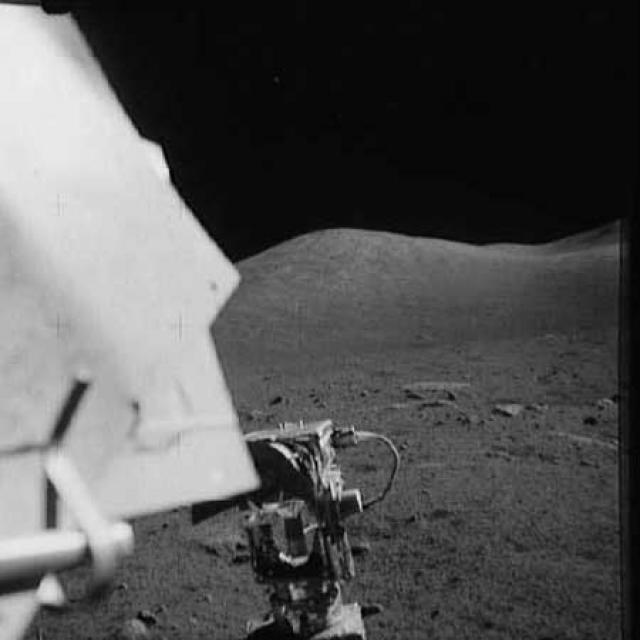artifact: (1, 0, 260, 640), (218, 425, 412, 639)
rock: (408, 371, 471, 408), (488, 390, 524, 422)
